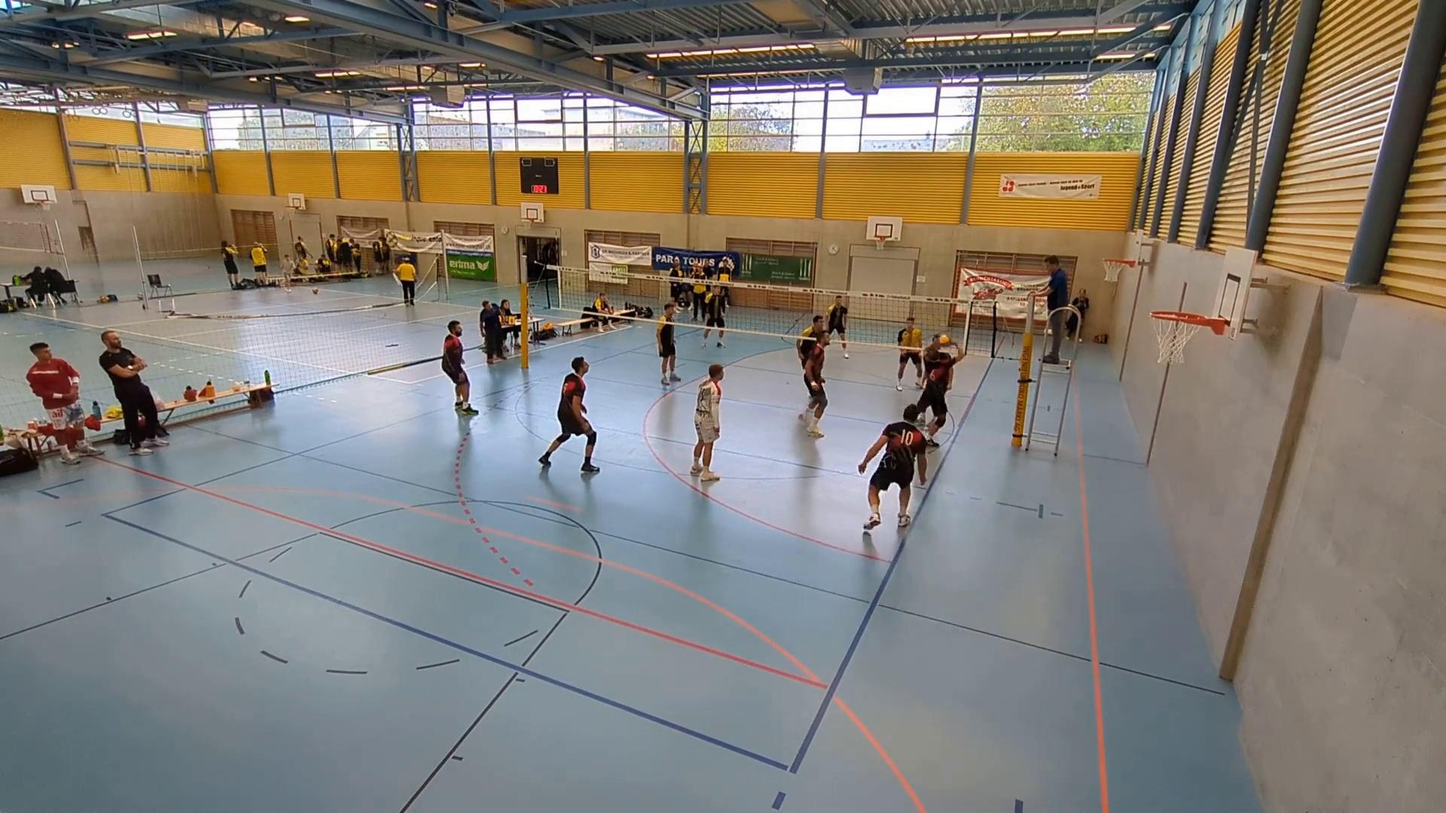difesa: (915, 334, 966, 448)
